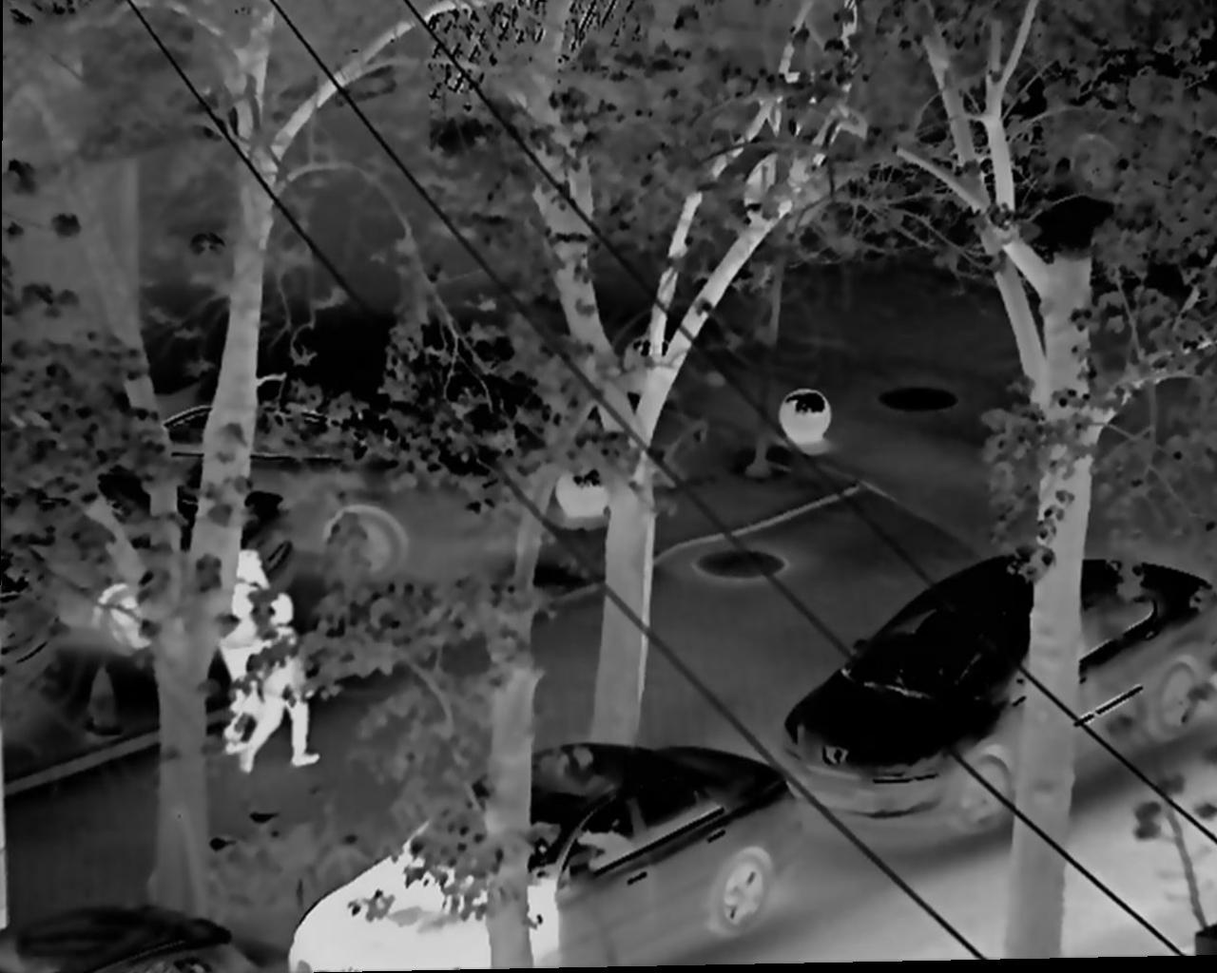person: (206, 541, 280, 750), (244, 595, 321, 776)
